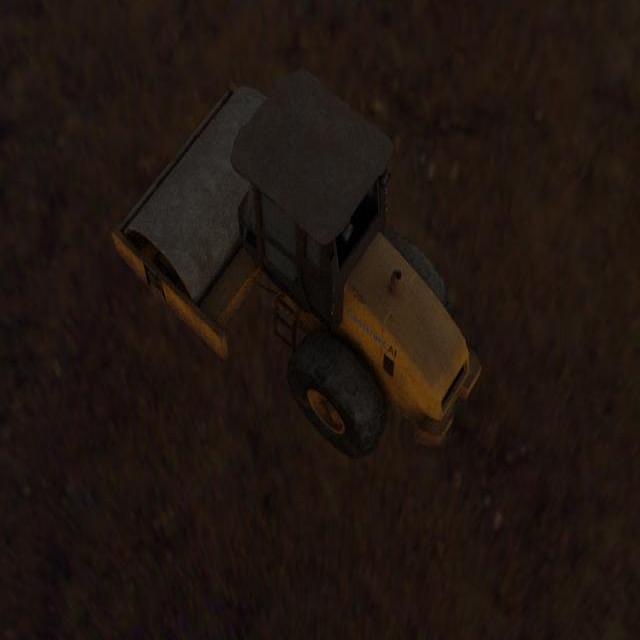Roller: (111, 68, 481, 459)
